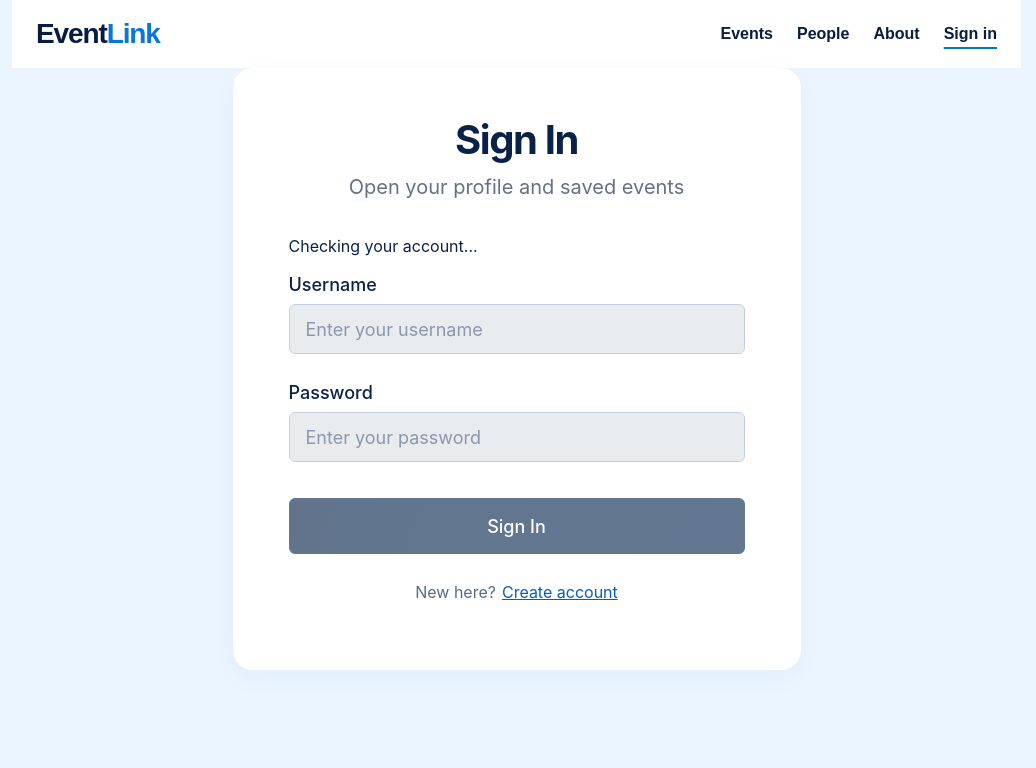
Test: session restoration blocks a competing sign-in request
This screenshot has width=1036, height=768.
Expected: the message shows "Checking your account", [288,236,478,256]
Click the button "Sign In": (516, 526) [288,498,744,554]
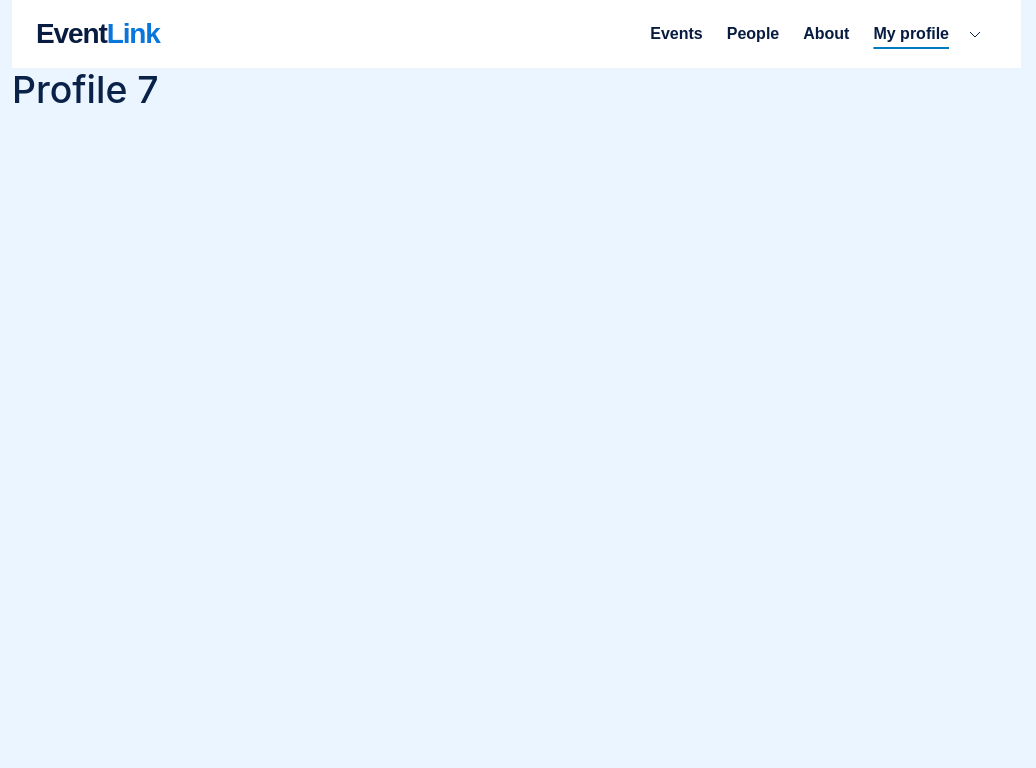
Expected: the heading "Profile 7" is shown, [12,67,159,112]
